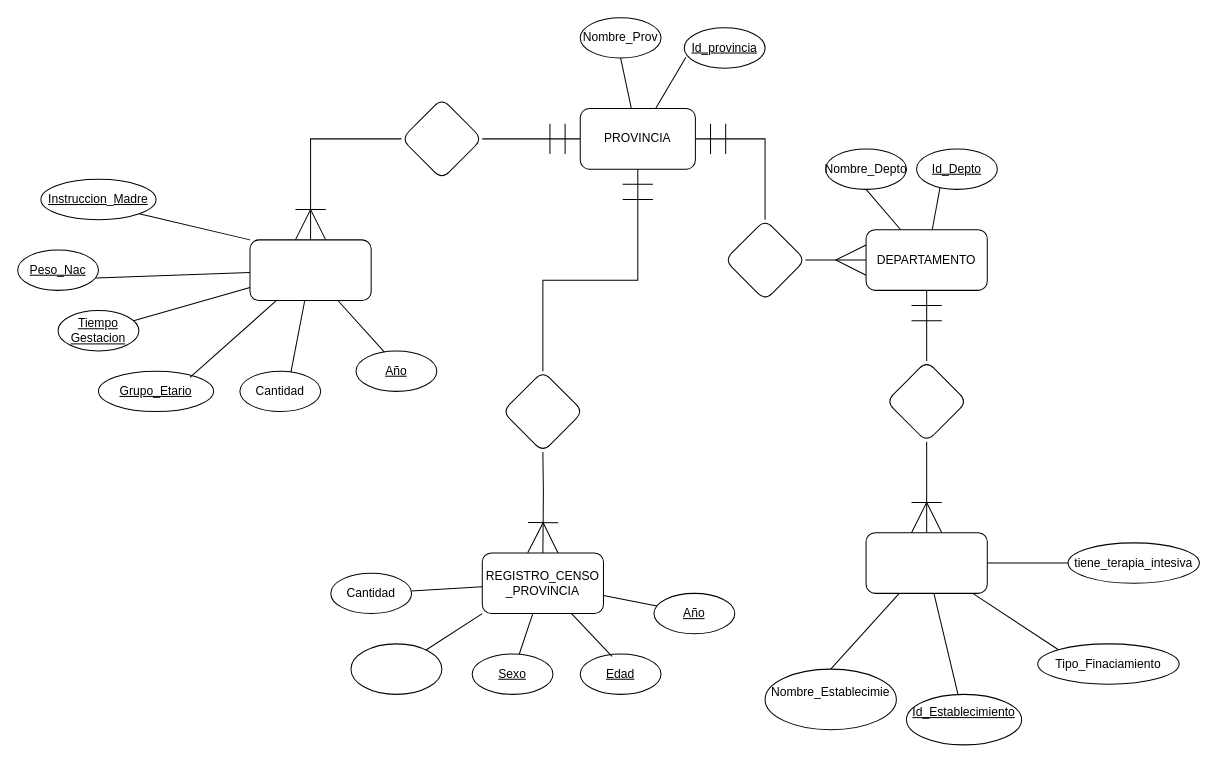
Some shapes in this 1217 by 763 pixel diagram are drawn without their labels. Each missing label, with the box of its shape:
Cobertura_Med: (350, 643, 442, 694)
Corresponde: (501, 370, 583, 452)
ESTABLECIMIENTO: (865, 532, 987, 593)
Ocurre_En: (400, 97, 482, 179)
Pertenece_a: (724, 219, 805, 300)
REGISTRO_ NACIMIENTO_ PROVINCIA: (249, 239, 371, 300)
Se_ubica_en: (885, 360, 967, 442)
